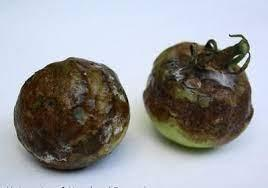tomato late blight: (13, 58, 132, 172), (143, 35, 256, 152)
